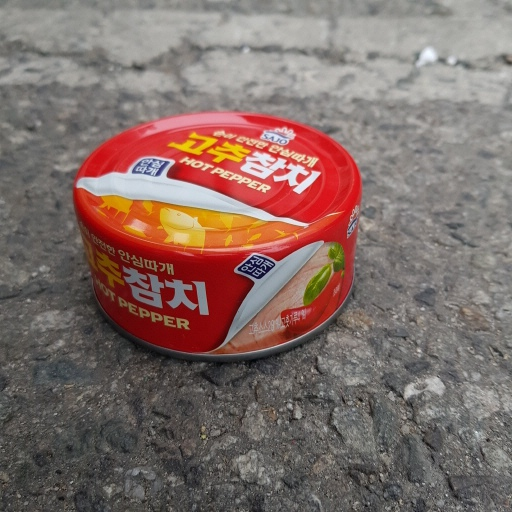Metal_1: (63, 112, 367, 356)
